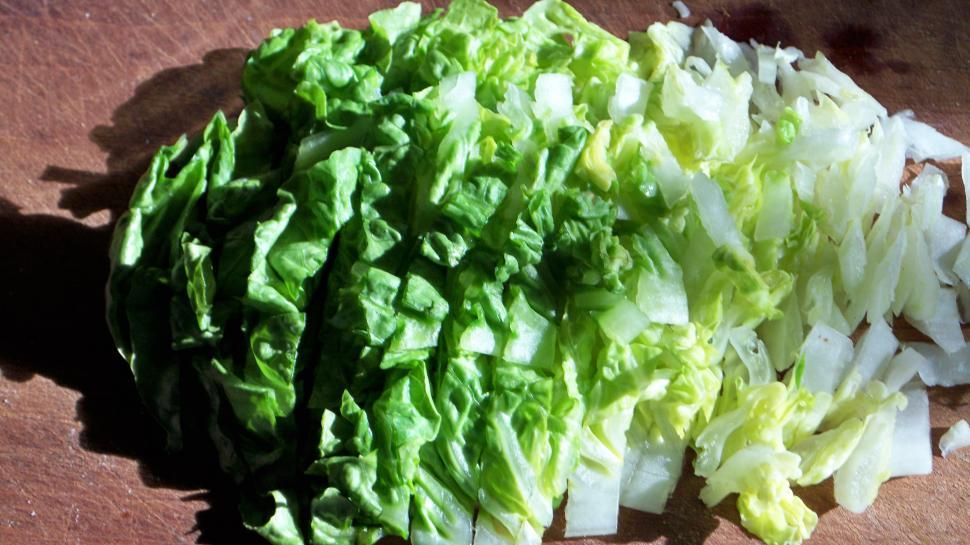chopped lettuce: (179, 35, 925, 519)
